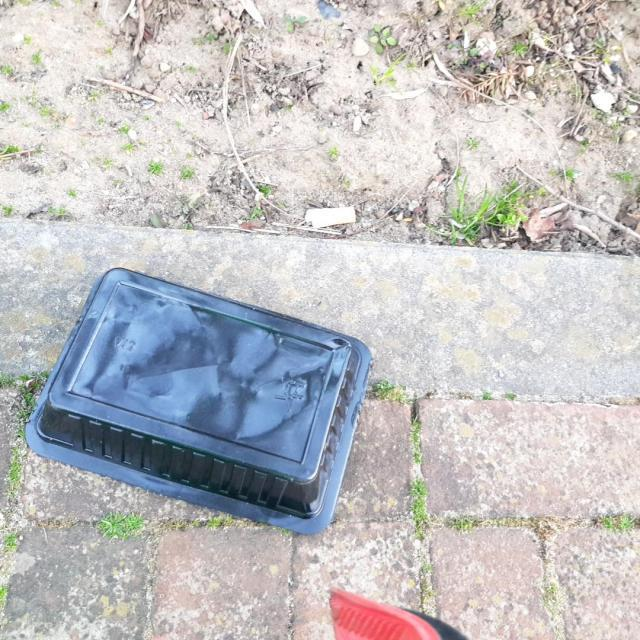Plastic: (22, 265, 374, 537)
